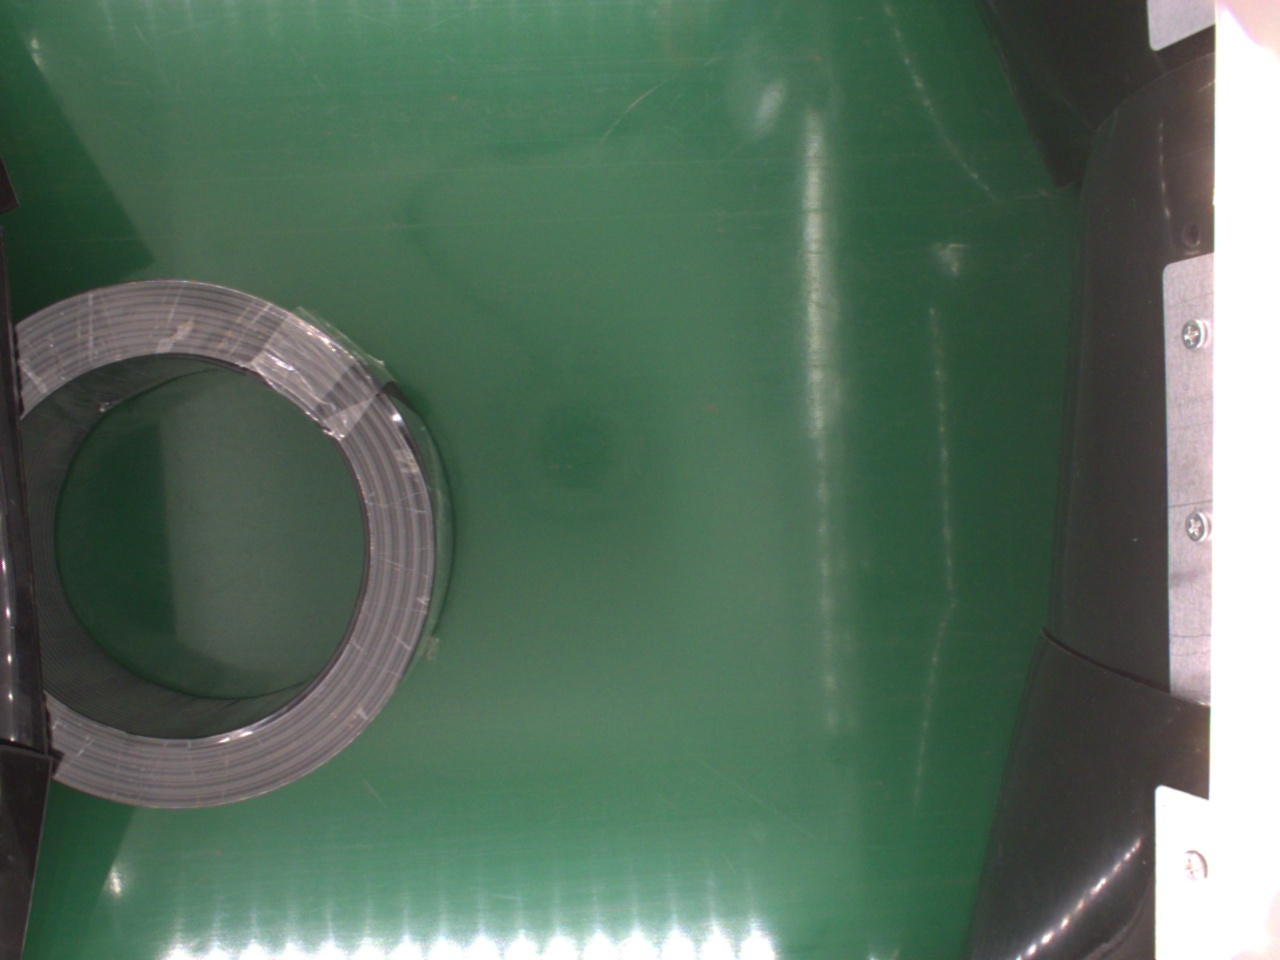black: (7, 278, 450, 812)
